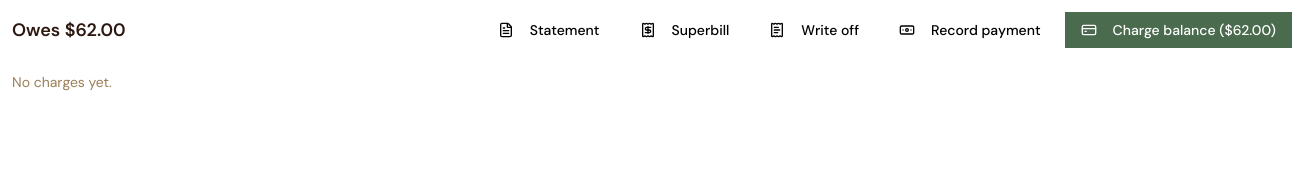
Scenario: BalanceTab › charging the balance › points at the ledger when the attempt never completed
Click the button "Charge balance ($62.00)".
click(1178, 30)  # box [1065, 12, 1292, 48]
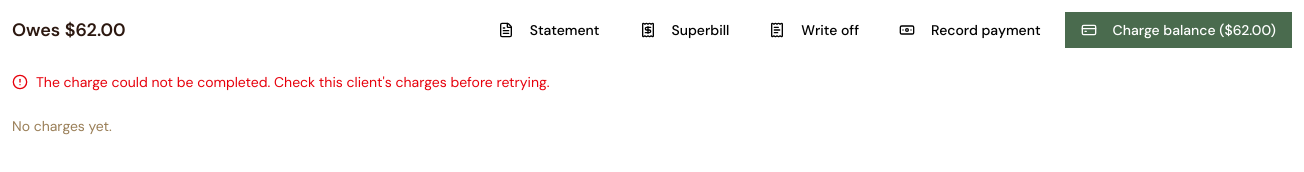
Check: the message shows "Check this client's charges before retrying", box [36, 73, 550, 91]
